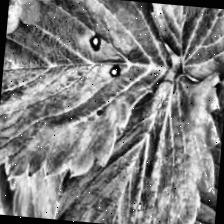Leaf Spot: (0, 0, 178, 195), (51, 58, 224, 224), (175, 72, 224, 224), (6, 0, 75, 44)
